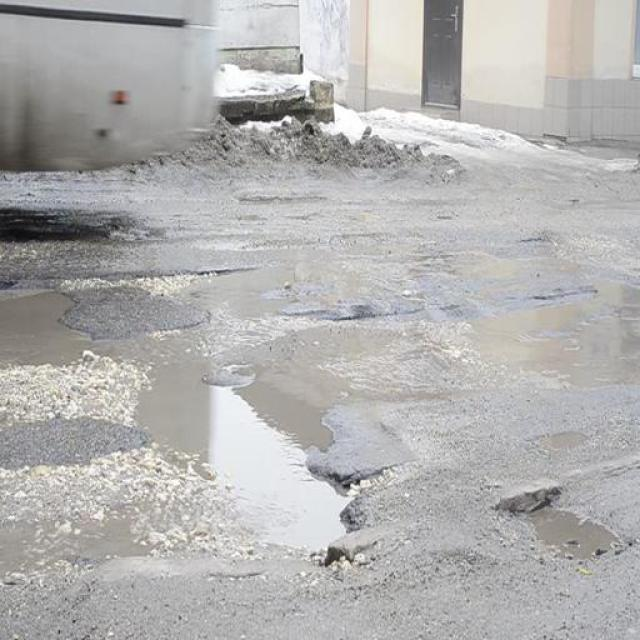puddle: (139, 349, 350, 586), (473, 281, 640, 413), (8, 283, 110, 387), (528, 501, 618, 573)
